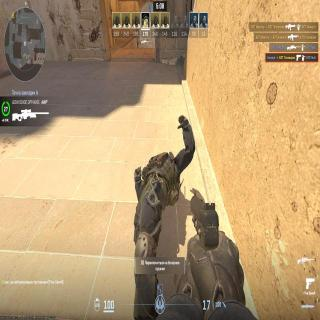Dead: (129, 138, 185, 296)
